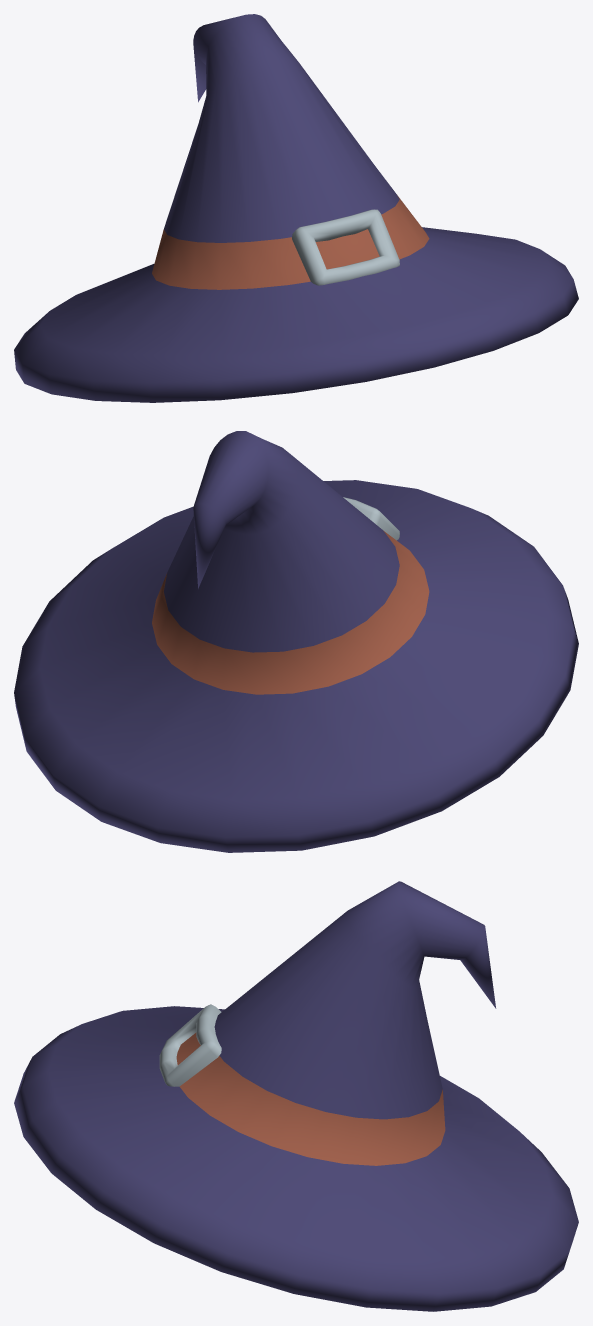
Rendered from hat_mage.gltf.
3 renders of one model, top to bottom at view 1: azimuth 30°, elevation 25°; view 2: azimuth 150°, elevation 25°; view 3: azimuth 270°, elevation 25°, orthographic. The views are drawn at different scales.
Parts seen in each view (by area): view 1: hat_mage; view 2: hat_mage; view 3: hat_mage.
Boxes of the visible parts, x1=… form: hat_mage: x1=14, y1=14, x2=578, y2=402; hat_mage: x1=14, y1=431, x2=578, y2=852; hat_mage: x1=14, y1=881, x2=578, y2=1311.
Bounding box in the file's own units: 2.1 × 1.42 × 2.05.
